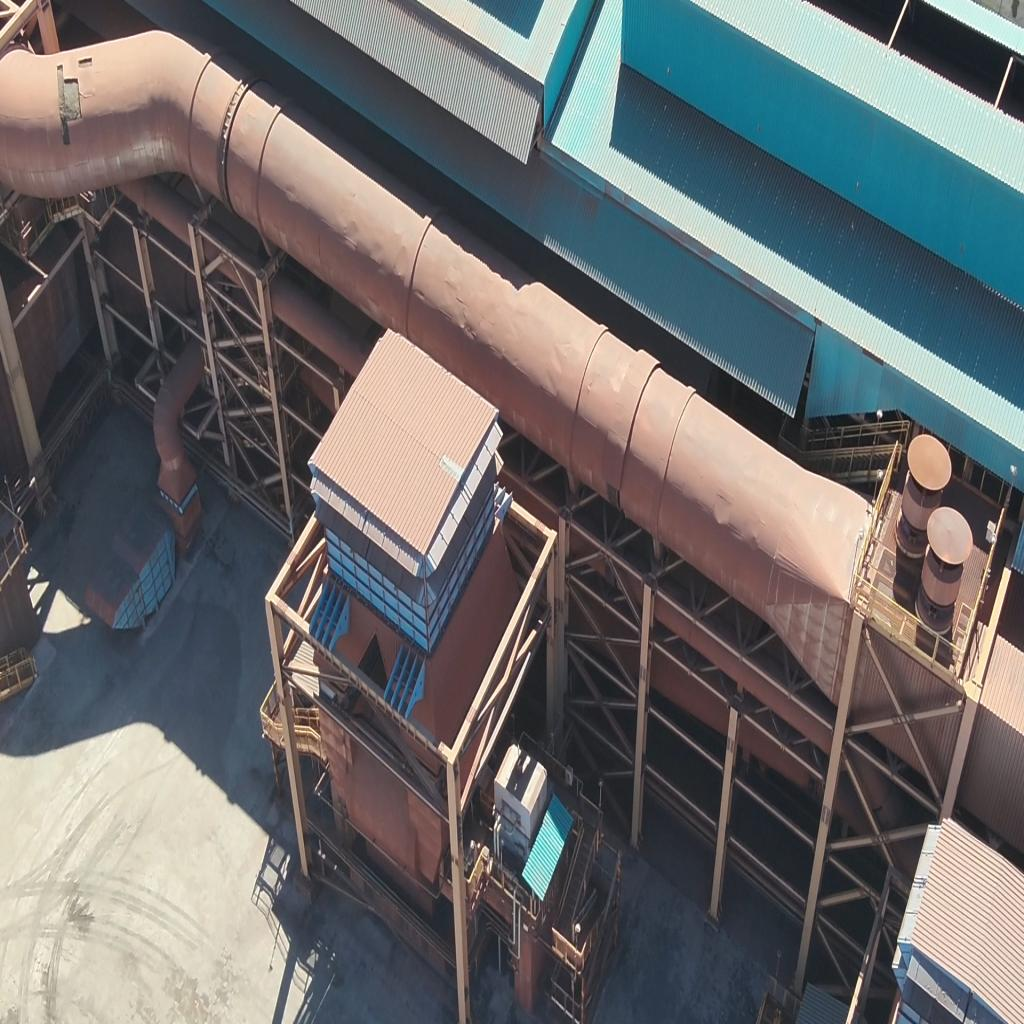Failures: (49, 50, 83, 144), (75, 43, 96, 79)
